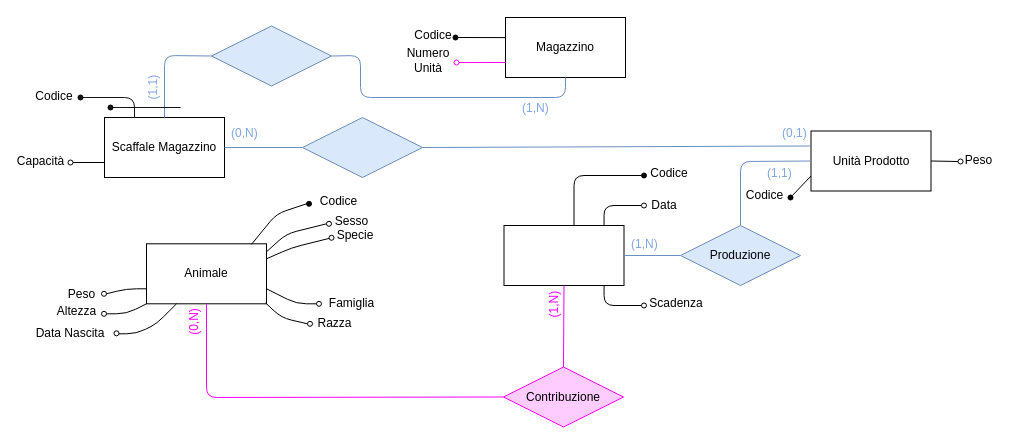
Some shapes in this 1018 by 445 pixel diagram are drawn without their labels. The shapes that lost their labels are listed below. From the top down, each one's box as (x1, y1, x2, y2) in pixels, then its label:
(210, 25, 332, 86): Disposizione Magazzino
(302, 116, 422, 178): Collocazione Magazzino
(503, 224, 624, 286): Lotto
